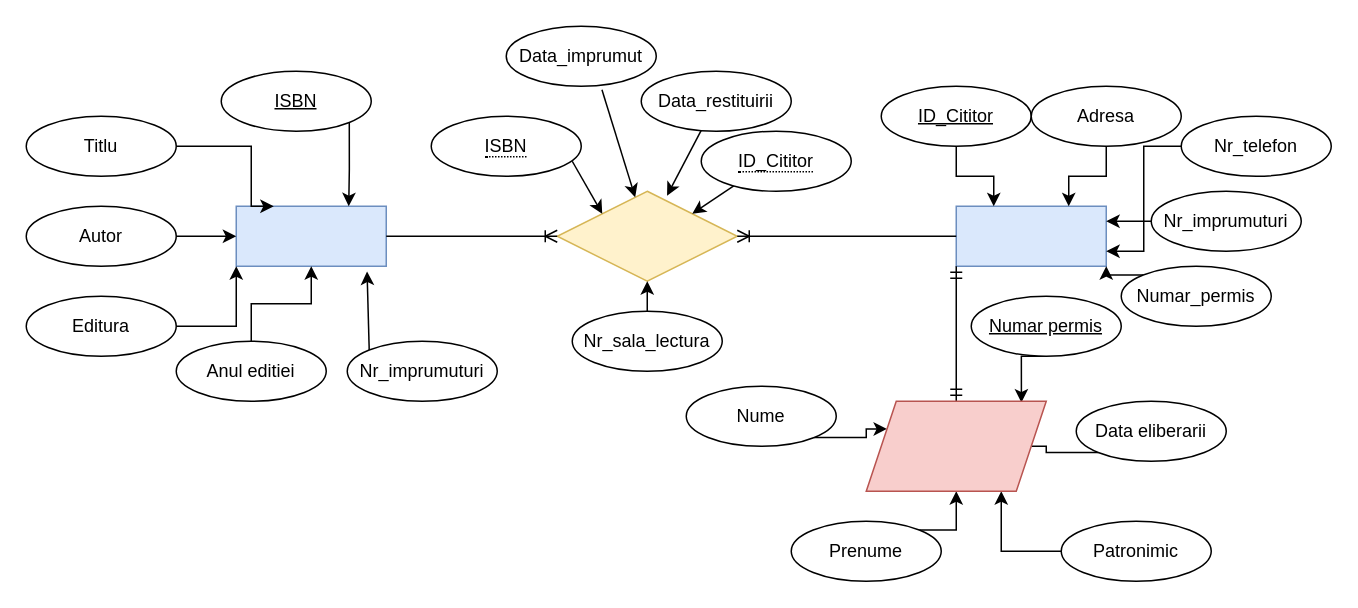
Image size: 1358x608. Some labels were removed from this diagram. Here are the shapes that lost their labels. From the top down, the centre of each, then its label:
the point at 310,235: Carte
the point at 646,235: Imprumuta
the point at 1030,235: Cititor
the point at 955,445: Permis
